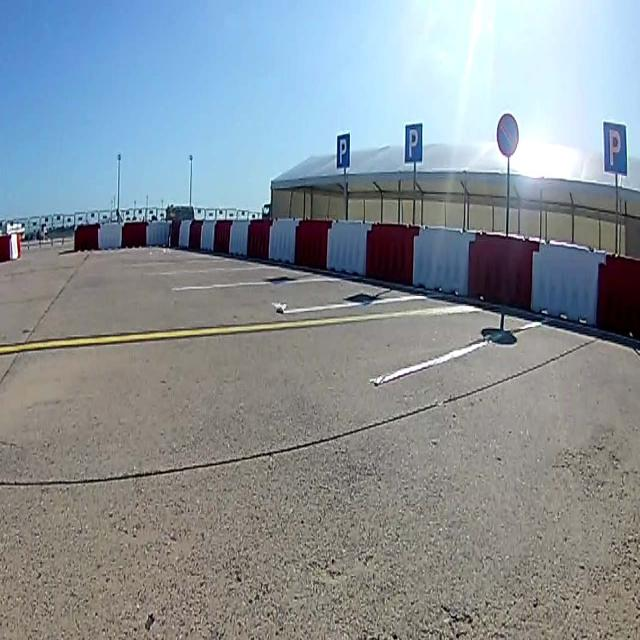park: (603, 119, 626, 174), (406, 122, 422, 162), (336, 132, 349, 168)
parkyasak: (496, 116, 520, 156)
